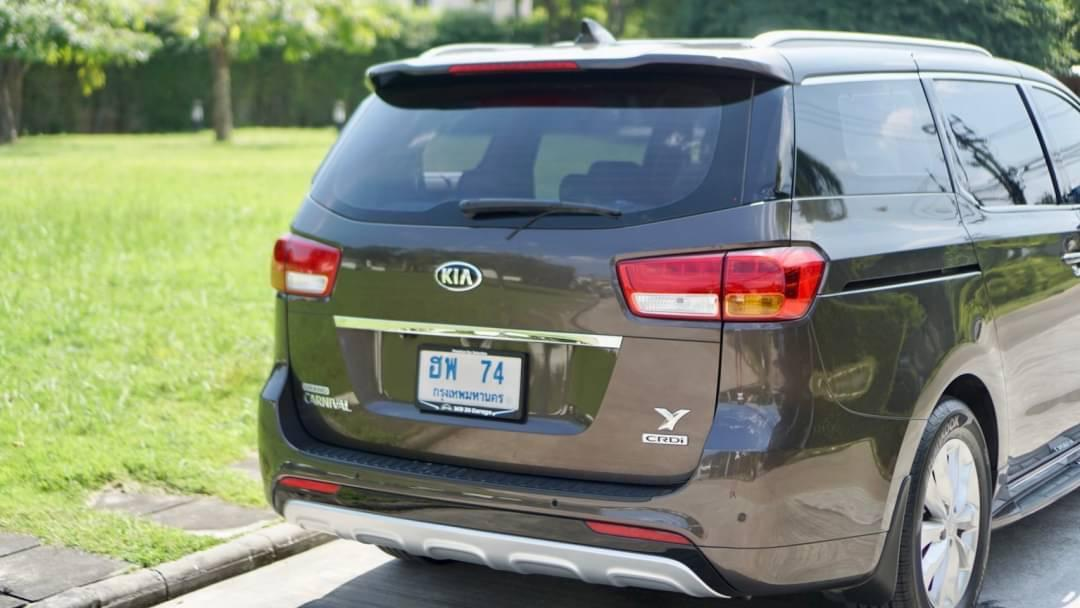license-plate: (415, 340, 529, 423)
